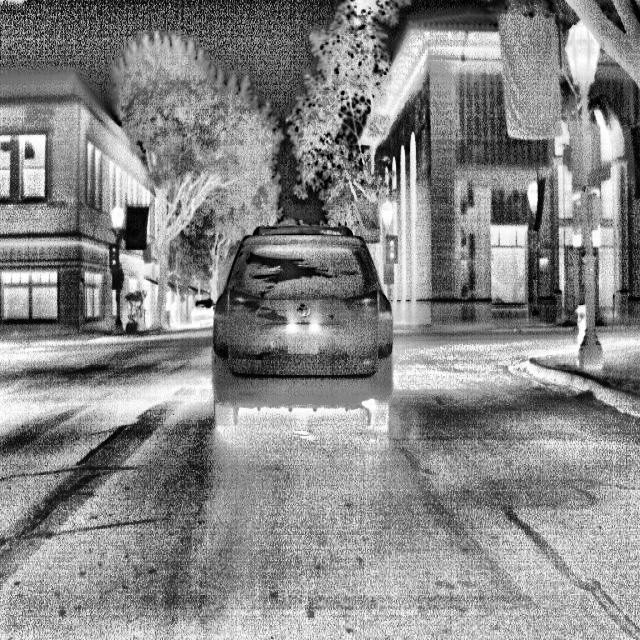car: (194, 212, 401, 445)
trafficlight: (365, 213, 415, 282), (101, 226, 142, 289)
